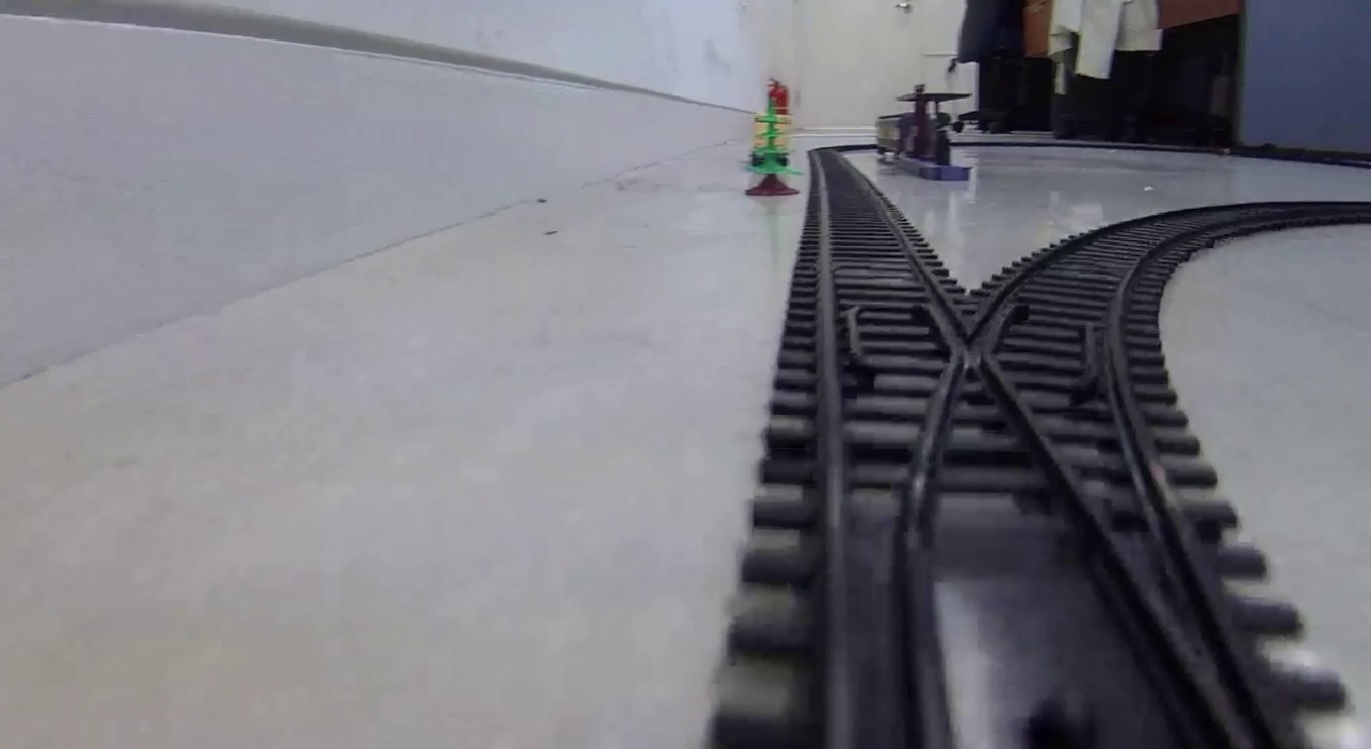tree: (750, 98, 798, 196)
